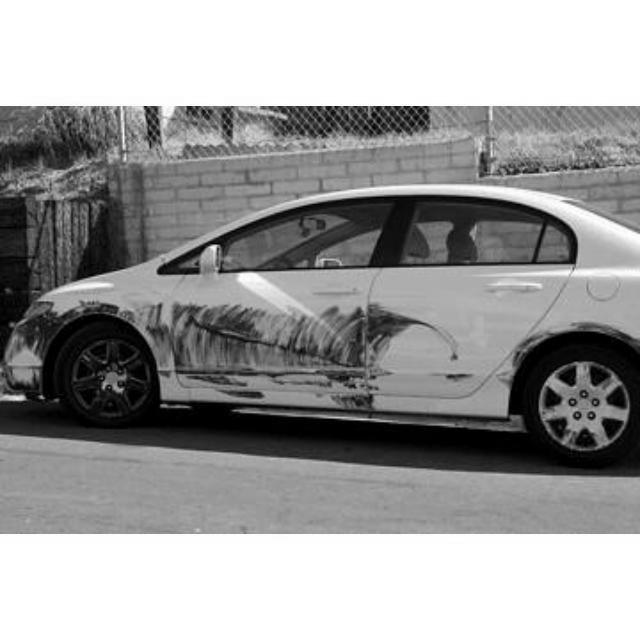doorouter-dent: (163, 283, 372, 412)
fender-dent: (17, 290, 164, 341)
